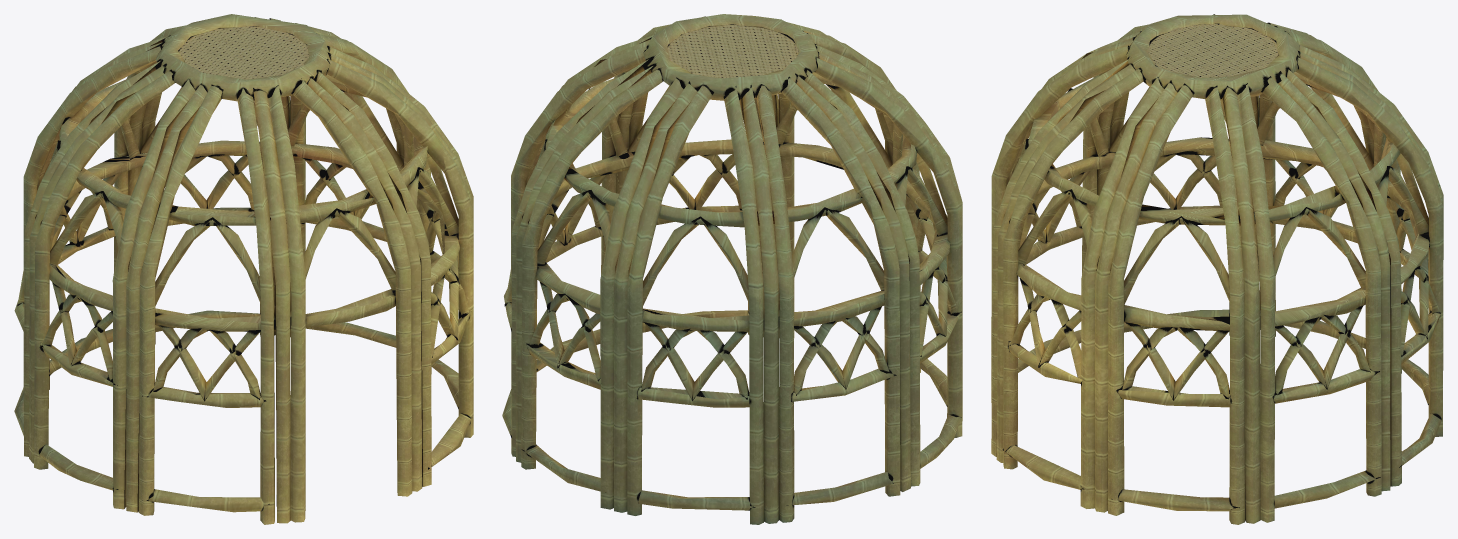
The model's file is BambooFrame_LOD4.glb.
The picture shows the model from 3 angles, left to right: view 1: azimuth 30°, elevation 25°; view 2: azimuth 150°, elevation 25°; view 3: azimuth 270°, elevation 25°; orthographic projection.
Visible parts, largest first — view 1: Bamboo Frame_PROCESSED.001_LOD4; view 2: Bamboo Frame_PROCESSED.001_LOD4; view 3: Bamboo Frame_PROCESSED.001_LOD4.
Part boxes in pixels (x1=…): Bamboo Frame_PROCESSED.001_LOD4: x1=14, y1=14, x2=473, y2=524; Bamboo Frame_PROCESSED.001_LOD4: x1=502, y1=14, x2=962, y2=524; Bamboo Frame_PROCESSED.001_LOD4: x1=991, y1=14, x2=1443, y2=524.
Bounding box in the file's own units: 23.76 × 21.83 × 23.4.
Materials: 2 (2 with a texture image).
